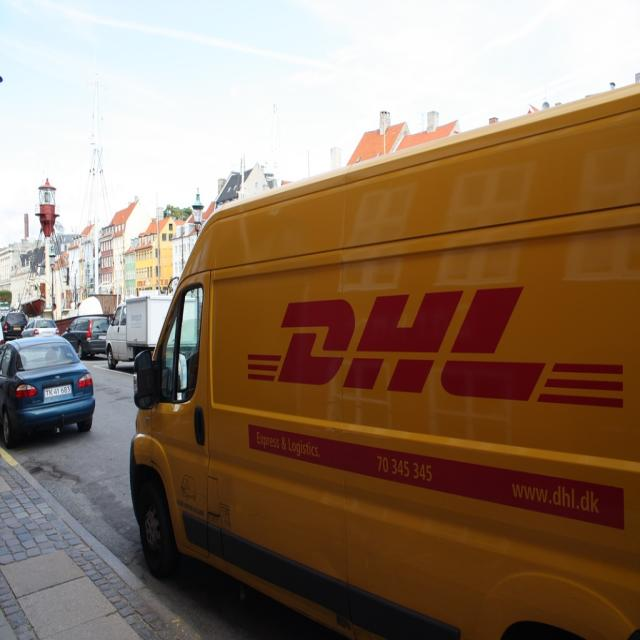dhl: (241, 278, 639, 416)
